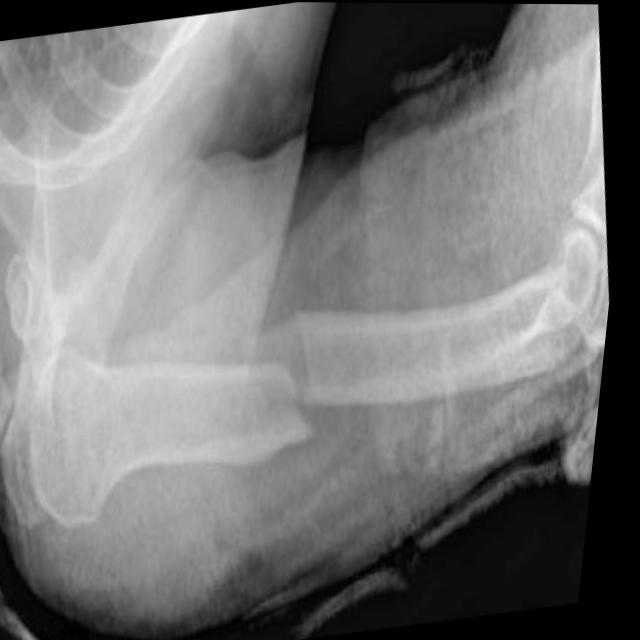fracture: (250, 263, 360, 477)
